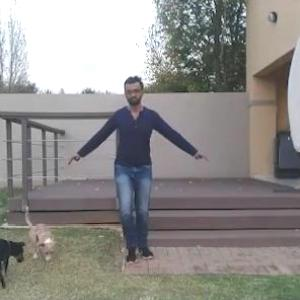land: (71, 84, 214, 246)
